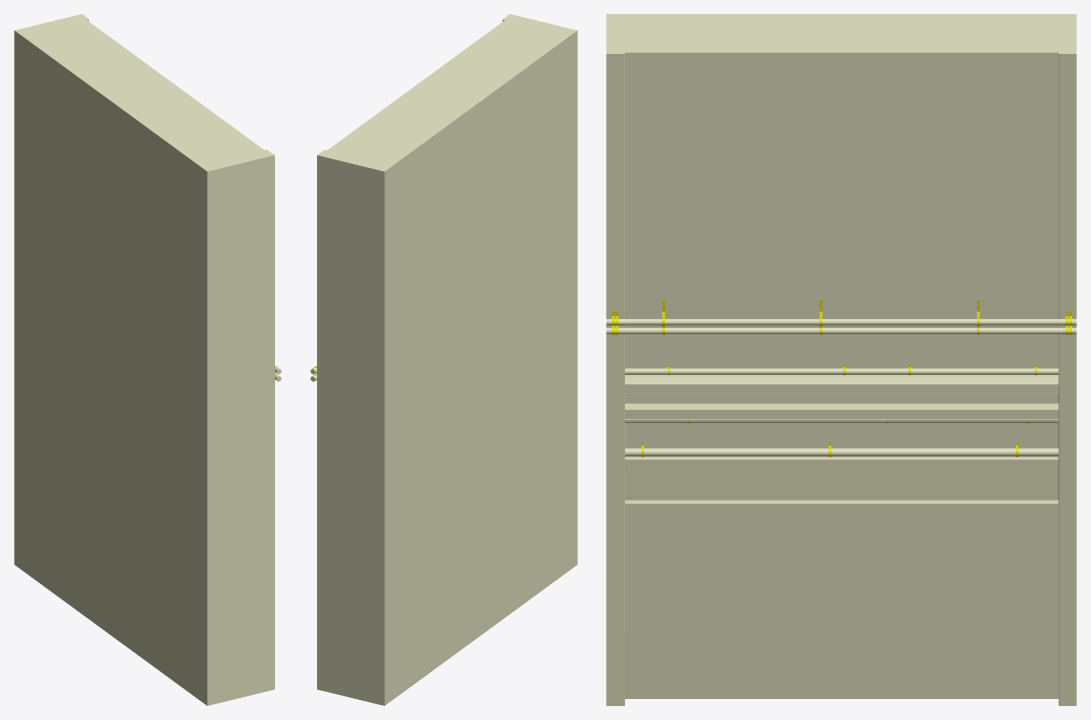
File: wall_plain_GRP.fbx
3 views of the same model, side by side, from view 1: azimuth 30°, elevation 25°; view 2: azimuth 150°, elevation 25°; view 3: azimuth 270°, elevation 25° (orthographic). The views are drawn at different scales.
Parts seen in each view (by area): view 1: wall_03; view 2: wall_03; view 3: wall_03, wall_pipe_04, wall_pipe_01, wall_pipe_06, wall_pipe_03, wall_pipe_02, wall_pipe_05.
Boxes of the visible parts, x1=… form: wall_03: x1=14, y1=14, x2=274, y2=705; wall_03: x1=317, y1=14, x2=577, y2=705; wall_03: x1=606, y1=14, x2=1076, y2=705; wall_pipe_04: x1=625, y1=448, x2=1058, y2=456; wall_pipe_01: x1=606, y1=327, x2=1076, y2=334; wall_pipe_06: x1=606, y1=319, x2=1076, y2=325; wall_pipe_03: x1=625, y1=368, x2=1058, y2=374; wall_pipe_02: x1=625, y1=421, x2=1058, y2=423; wall_pipe_05: x1=625, y1=419, x2=1058, y2=420.
Bounding box in the file's own units: 134 × 917 × 600.
